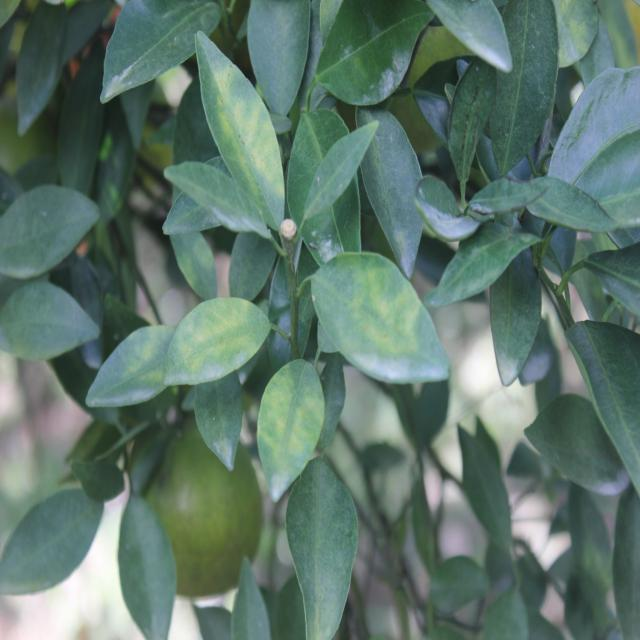blackspot: (201, 55, 275, 206), (172, 302, 258, 374)
